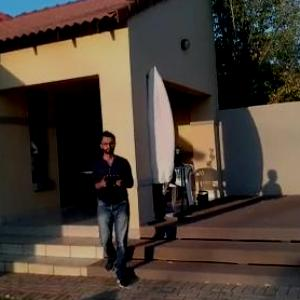follow: (91, 126, 139, 287)
